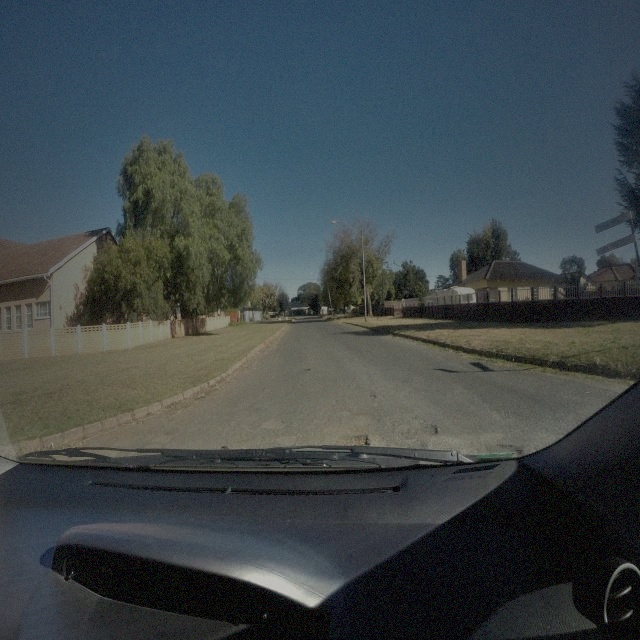pothole: (338, 431, 371, 452), (419, 423, 438, 436)
